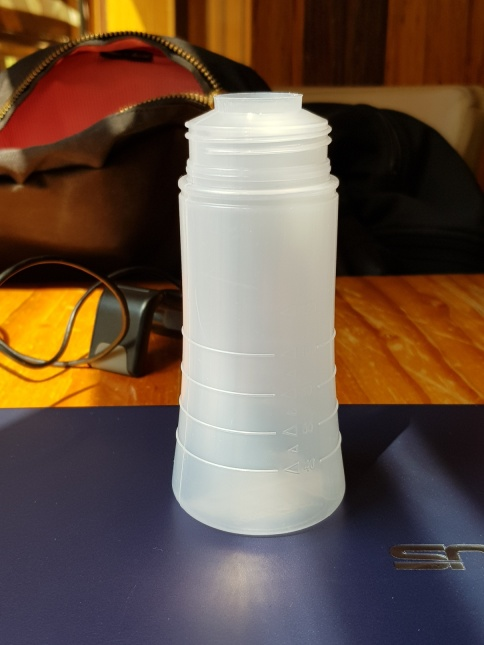Plastic: (163, 88, 349, 539)
